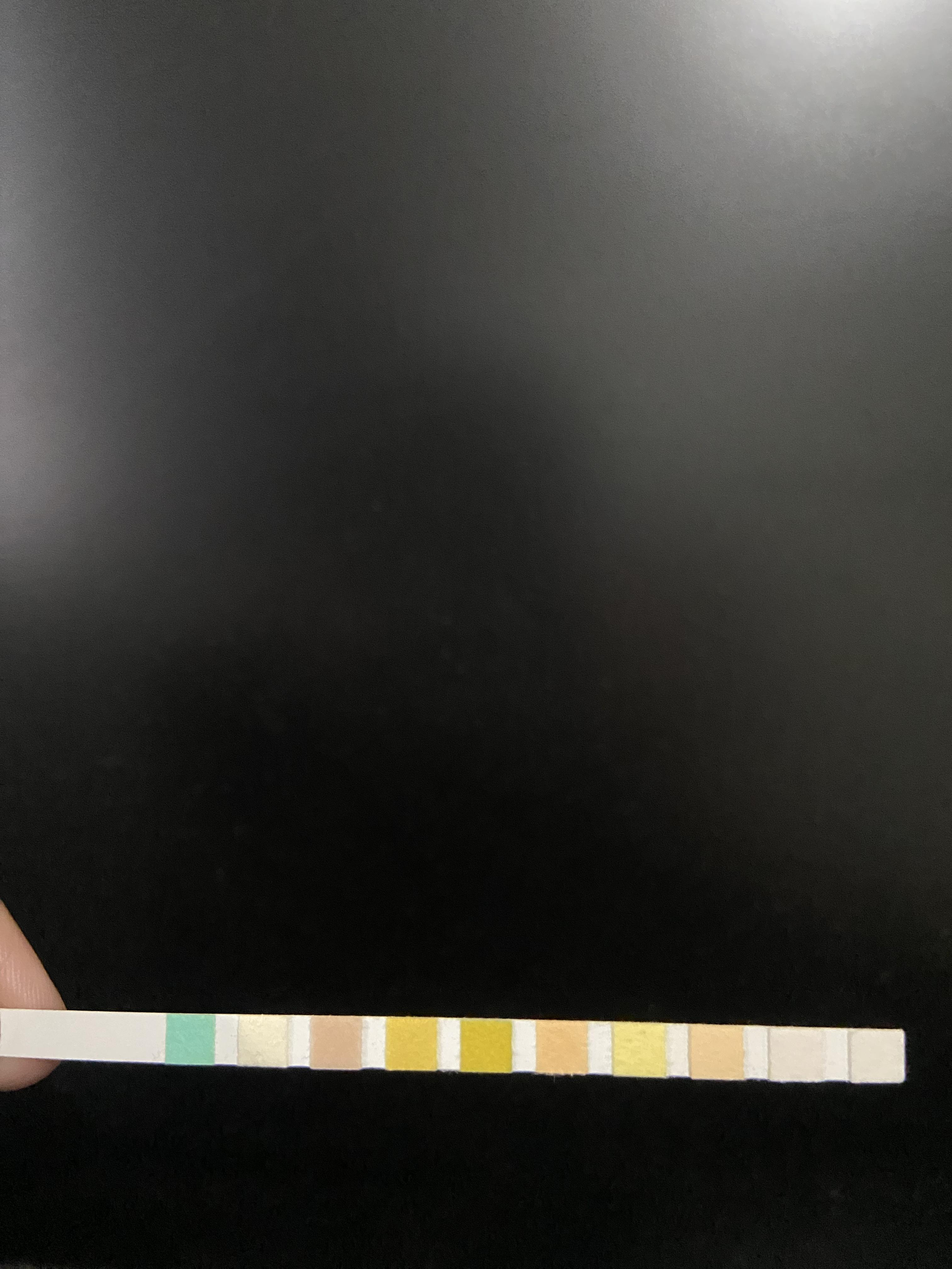Bilirubin: (242, 1015, 290, 1066)
Blood: (463, 1020, 511, 1071)
Glucose: (169, 1014, 213, 1063)
Ketone: (312, 1017, 362, 1068)
Leukocytes: (854, 1031, 904, 1082)
Nitrite: (772, 1028, 824, 1080)
Protein: (614, 1023, 666, 1074)
SpGravity: (388, 1018, 437, 1070)
Urobilinogen: (691, 1027, 744, 1079)
pH: (540, 1022, 588, 1072)
strip: (0, 1009, 907, 1082)
